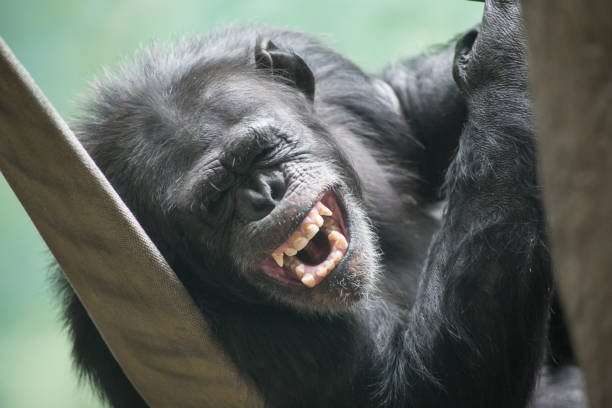chimpanzee: (79, 20, 411, 346)
